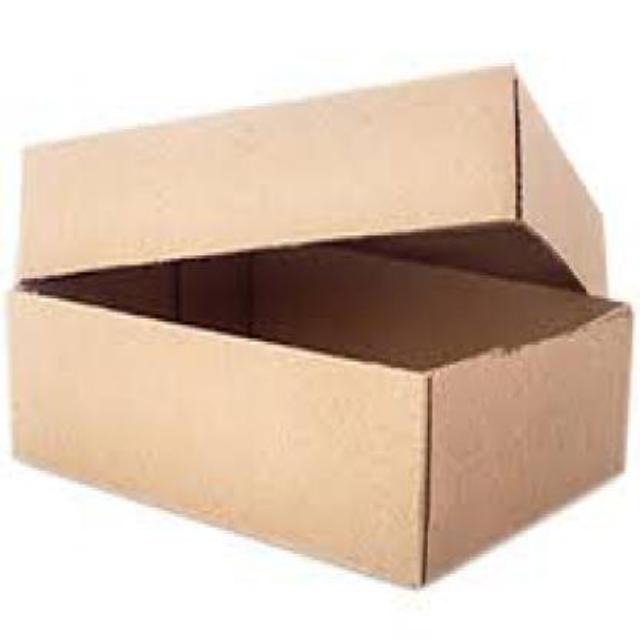cardboard_box: (27, 86, 627, 584)
